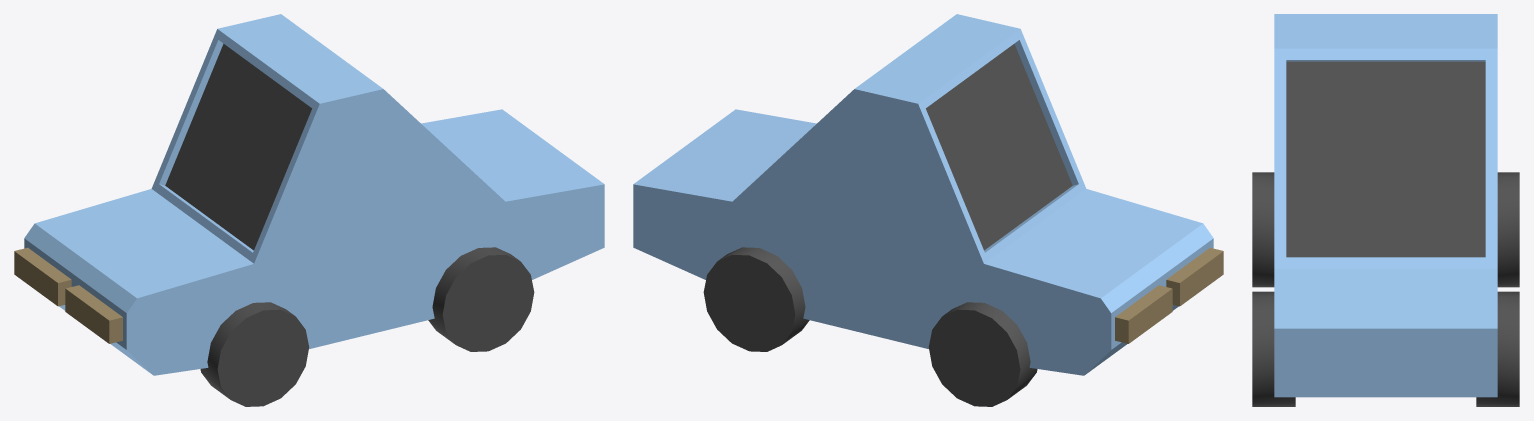
The model's file is car-custom-blue.glb.
The picture shows the model from 3 angles, left to right: view 1: azimuth 30°, elevation 25°; view 2: azimuth 150°, elevation 25°; view 3: azimuth 270°, elevation 25°; orthographic projection. The views are drawn at different scales.
Visible parts, largest first — view 1: Cube, WINDHIELD, Cylinder, Cylinder 1, lights; view 2: Cube, WINDHIELD, Cylinder 2, Cylinder 3, lights; view 3: Cube, WINDHIELD, Cylinder 1, Cylinder 3, Cylinder 2, Cylinder.
Part boxes in pixels (x1=…): Cube: x1=24, y1=14, x2=604, y2=375; WINDHIELD: x1=165, y1=43, x2=311, y2=250; Cylinder: x1=200, y1=302, x2=309, y2=406; Cylinder 1: x1=428, y1=247, x2=534, y2=351; lights: x1=14, y1=247, x2=122, y2=343; Cube: x1=633, y1=14, x2=1213, y2=375; WINDHIELD: x1=926, y1=43, x2=1072, y2=250; Cylinder 2: x1=928, y1=302, x2=1037, y2=406; Cylinder 3: x1=703, y1=247, x2=809, y2=351; lights: x1=1115, y1=247, x2=1223, y2=343; Cube: x1=1274, y1=14, x2=1497, y2=397; WINDHIELD: x1=1286, y1=61, x2=1485, y2=257; Cylinder 1: x1=1252, y1=291, x2=1295, y2=406; Cylinder 3: x1=1476, y1=291, x2=1519, y2=406; Cylinder 2: x1=1497, y1=172, x2=1519, y2=287; Cylinder: x1=1252, y1=172, x2=1274, y2=287.
Bounding box in the file's own units: 0.1444 × 0.0782 × 0.0625.
